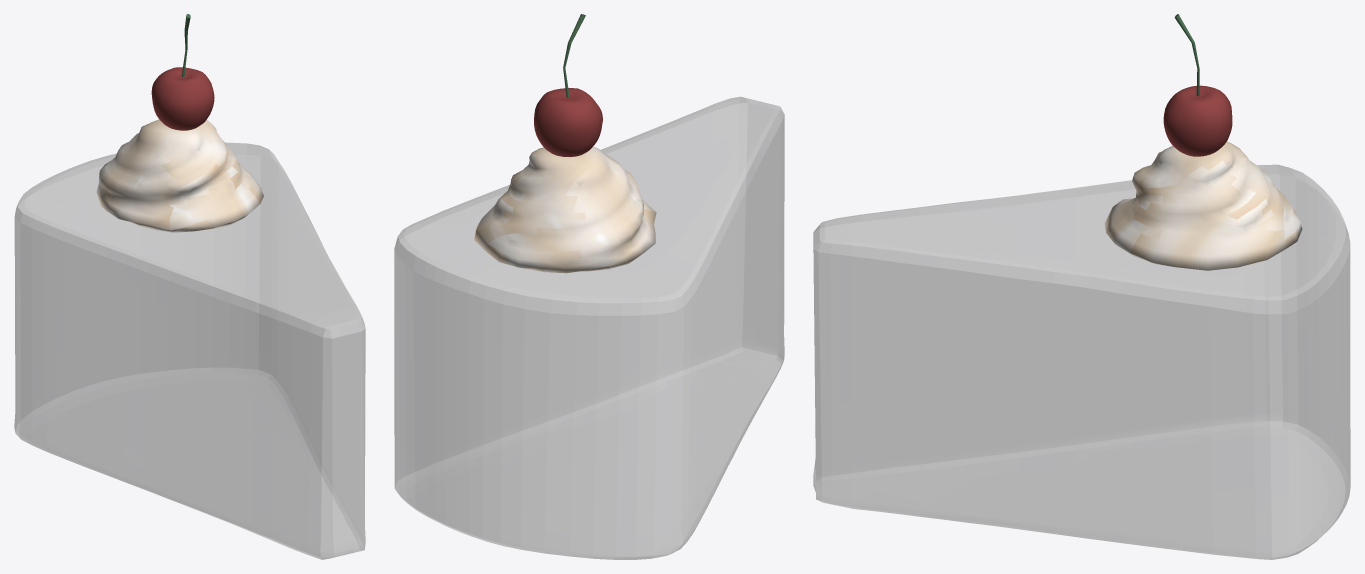
The model's file is PieceOfCake.fbx.
3 renders of one model, left to right at view 1: azimuth 30°, elevation 25°; view 2: azimuth 150°, elevation 25°; view 3: azimuth 270°, elevation 25°, orthographic. The views are drawn at different scales.
Visible parts, largest first — view 1: Cake, Cream, Cherry; view 2: Cake, Cream, Cherry; view 3: Cake, Cream, Cherry.
Part boxes in pixels (x1,y1,x2,y2): Cake: (14,142,365,559); Cream: (96,119,263,232); Cherry: (151,14,214,130); Cake: (394,96,784,559); Cream: (474,146,656,273); Cherry: (534,14,602,156); Cake: (813,164,1350,559); Cream: (1104,141,1302,270); Cherry: (1163,14,1232,156).
Bounding box in the file's own units: 171 × 273 × 276.
